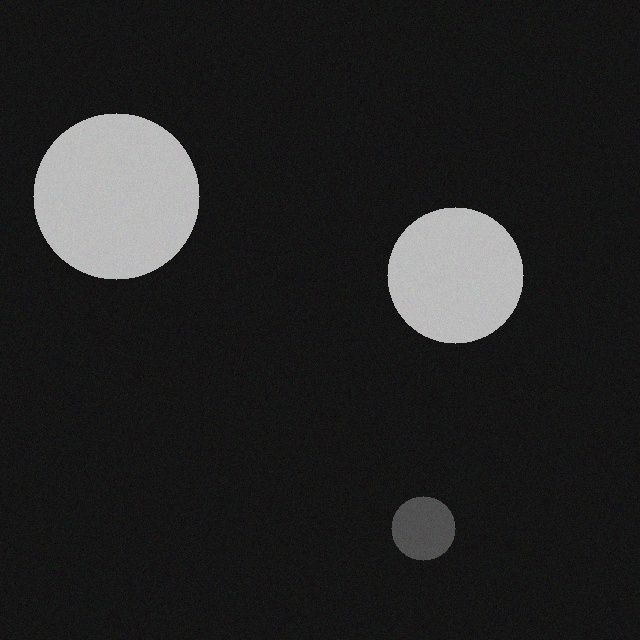circle: (31, 105, 197, 271), (385, 199, 521, 335), (389, 488, 453, 552)
